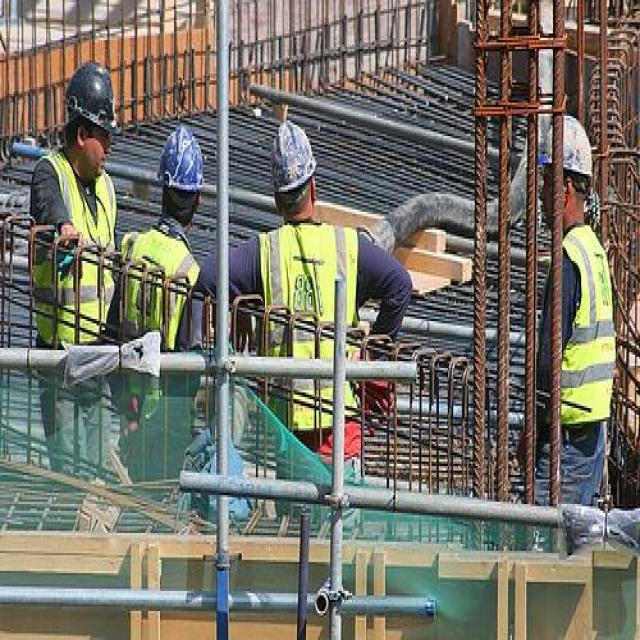Reflective-Jacket: (242, 214, 380, 451), (20, 149, 126, 406), (114, 218, 214, 432), (546, 223, 624, 439)
Safety-Helmet: (52, 49, 126, 147), (260, 110, 326, 208), (150, 114, 214, 212), (531, 107, 599, 194)
